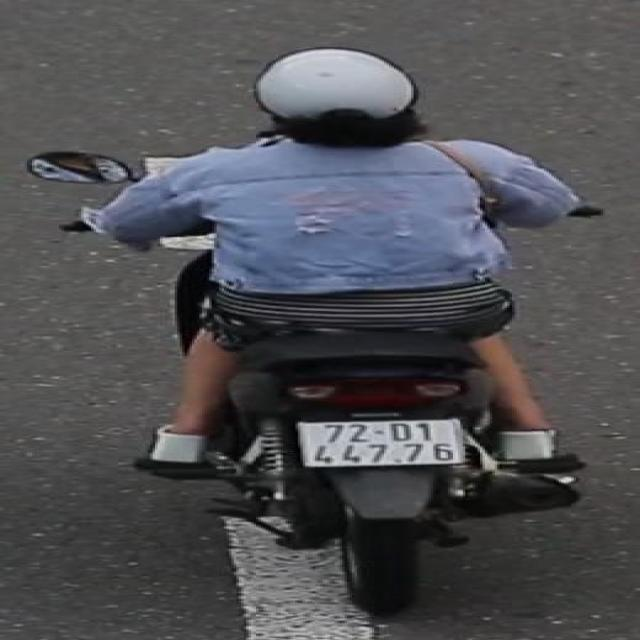LP: (292, 412, 476, 485)
helmet: (242, 48, 434, 135)
